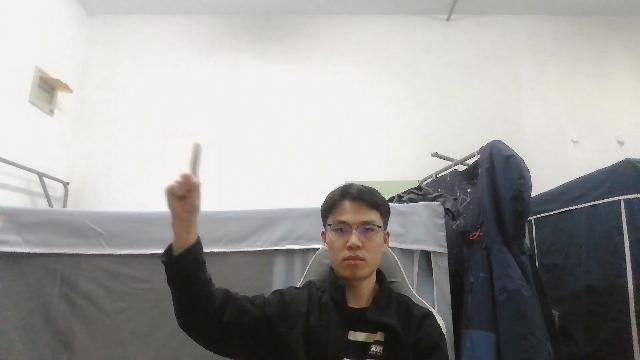one: (162, 137, 206, 226)
